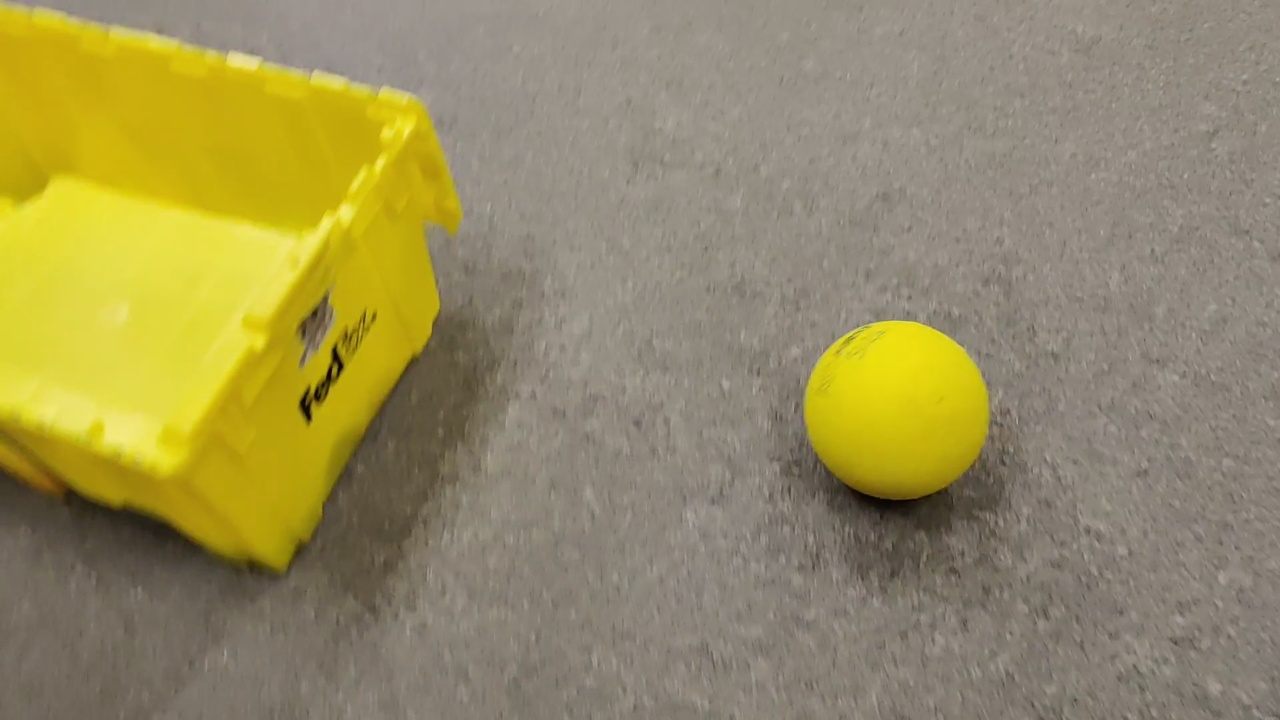Ball: (806, 319, 998, 503)
